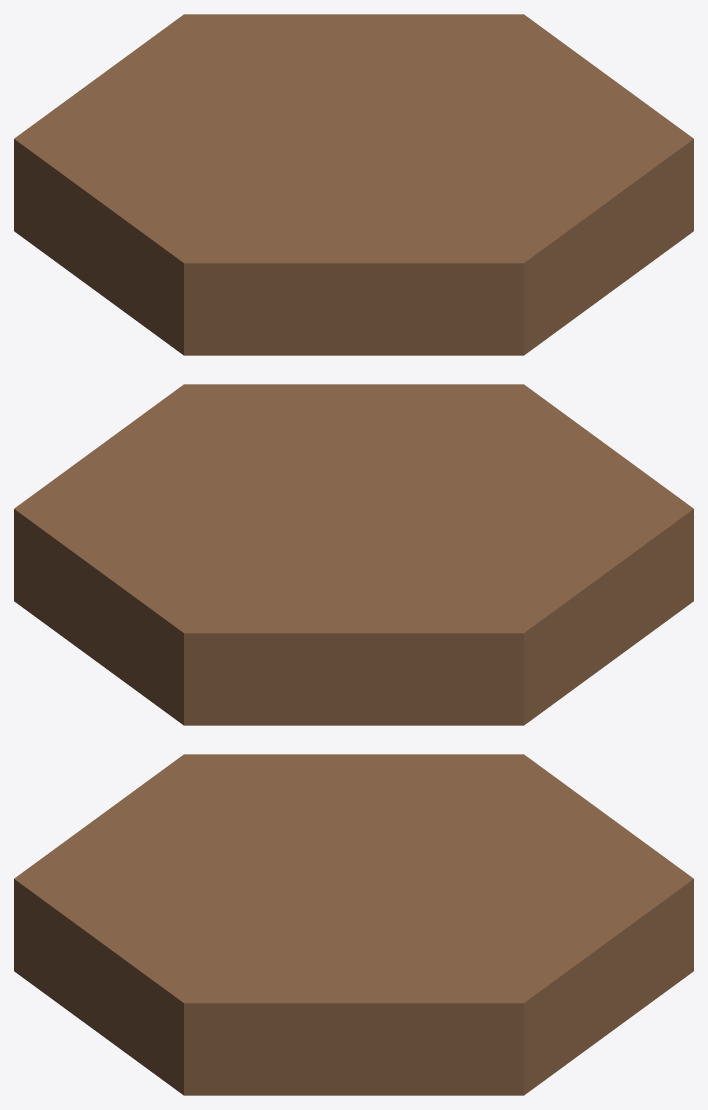
File: 1wall2.glb
3 renders of one model, top to bottom at view 1: azimuth 30°, elevation 25°; view 2: azimuth 150°, elevation 25°; view 3: azimuth 270°, elevation 25°, orthographic.
Parts seen in each view (by area): view 1: Cliff1; view 2: Cliff1; view 3: Cliff1.
Boxes of the visible parts, x1,y1,x2,y2 form: Cliff1: (14, 14, 693, 355); Cliff1: (14, 384, 693, 725); Cliff1: (14, 754, 693, 1095).
Size of the model in its own units: 1.73 by 0.3 by 2.
Materials: 1 (1 with a texture image).
